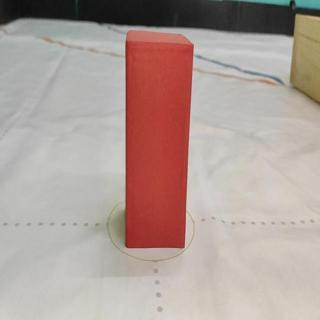redbox: (125, 29, 193, 246)
